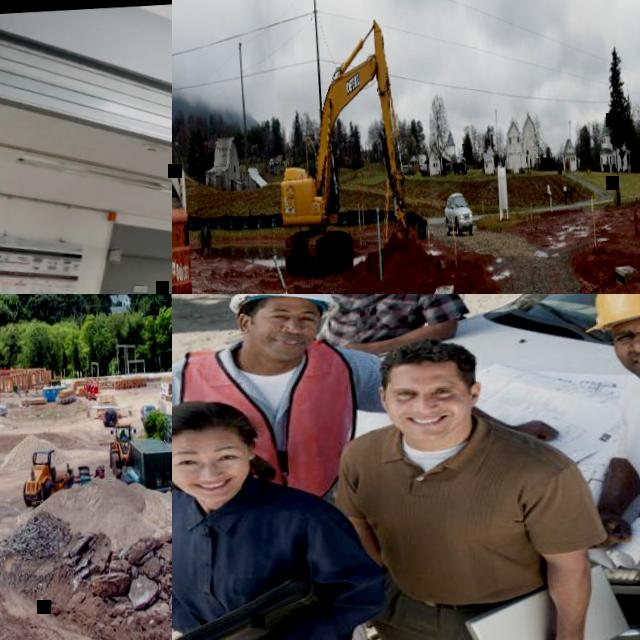Hardhat: (227, 294, 342, 324), (574, 294, 640, 332)
NO-Hardhat: (368, 338, 478, 376), (172, 397, 253, 442)
NO-Mask: (240, 324, 313, 367), (177, 465, 249, 507), (392, 402, 465, 441), (612, 334, 640, 383)
NO-Safety Vest: (339, 426, 559, 613), (172, 484, 344, 640), (320, 294, 436, 354), (611, 370, 640, 609)
Person: (314, 328, 608, 640), (172, 386, 398, 640), (172, 294, 397, 520), (565, 294, 640, 640), (310, 294, 471, 357)
Safety Vest: (172, 338, 361, 502)
vehicle: (314, 294, 640, 626), (268, 8, 435, 285), (172, 119, 199, 294), (22, 444, 83, 508), (108, 420, 140, 477), (442, 188, 474, 235), (140, 401, 159, 420), (103, 407, 119, 426), (163, 409, 172, 422)
